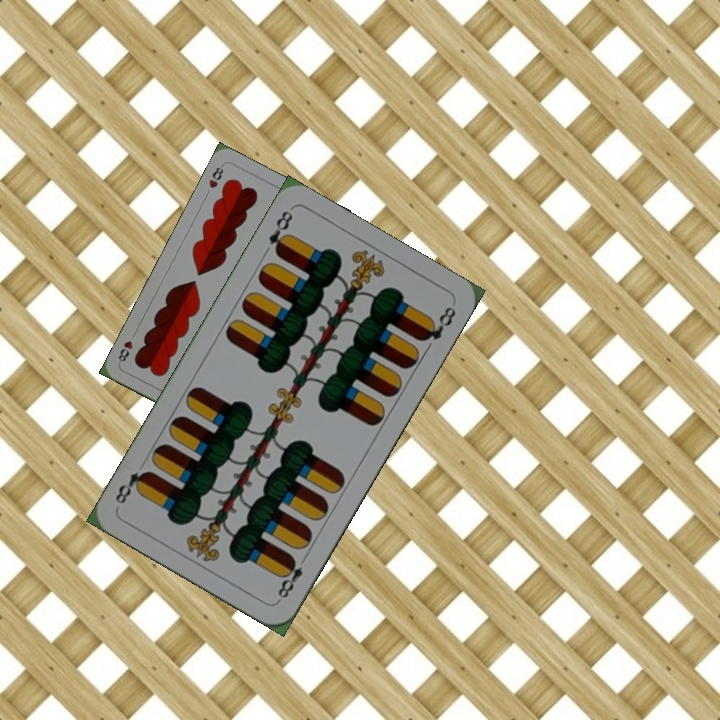E8: (264, 206, 296, 259), (273, 553, 306, 604)
H8: (204, 160, 226, 191)
